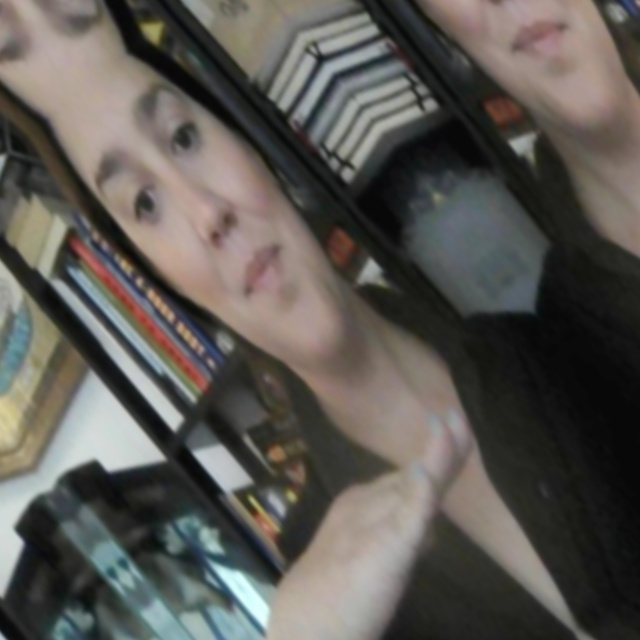Paper: (238, 390, 552, 640)
